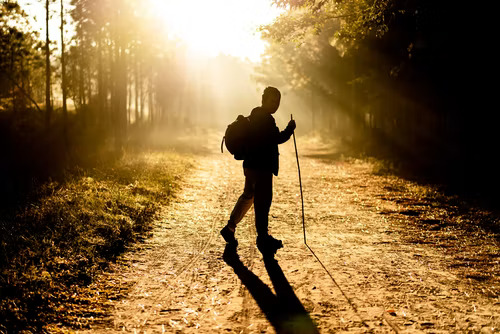person: (220, 87, 297, 246)
